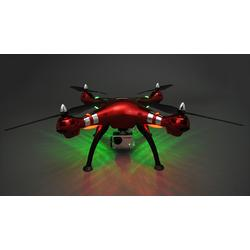drone: (7, 82, 244, 172)
